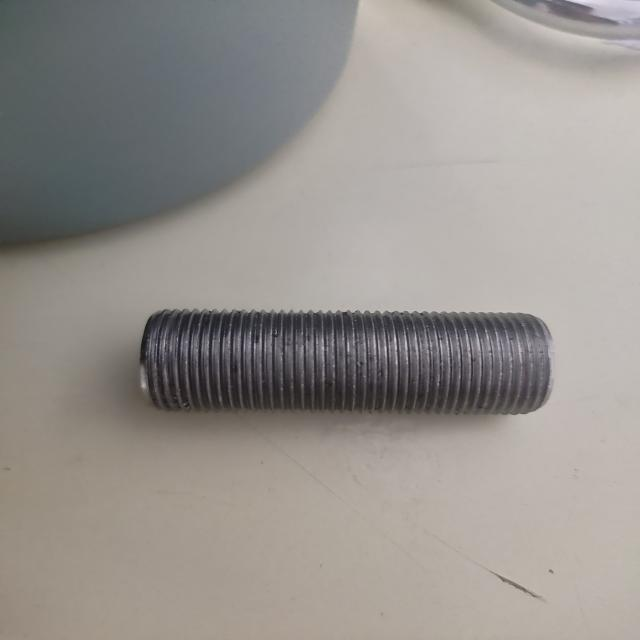Normal: (142, 307, 554, 417)
